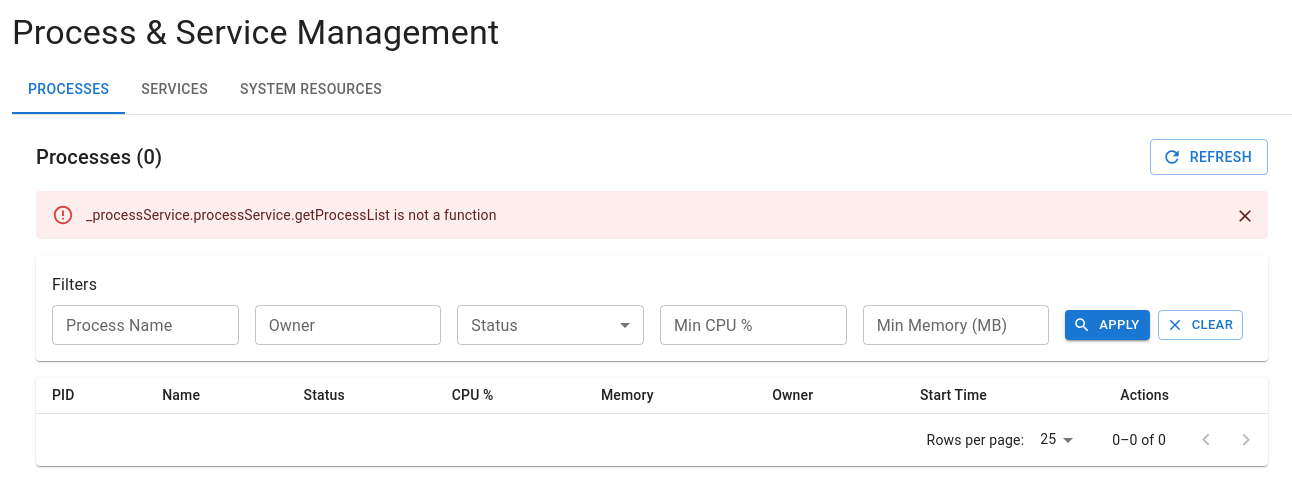
it: ProcessManager › should handle system resources loading error
This screenshot has width=1292, height=485.
Click the tab "System Resources" at (311, 90), box x1=224 y1=66 x2=398 y2=114
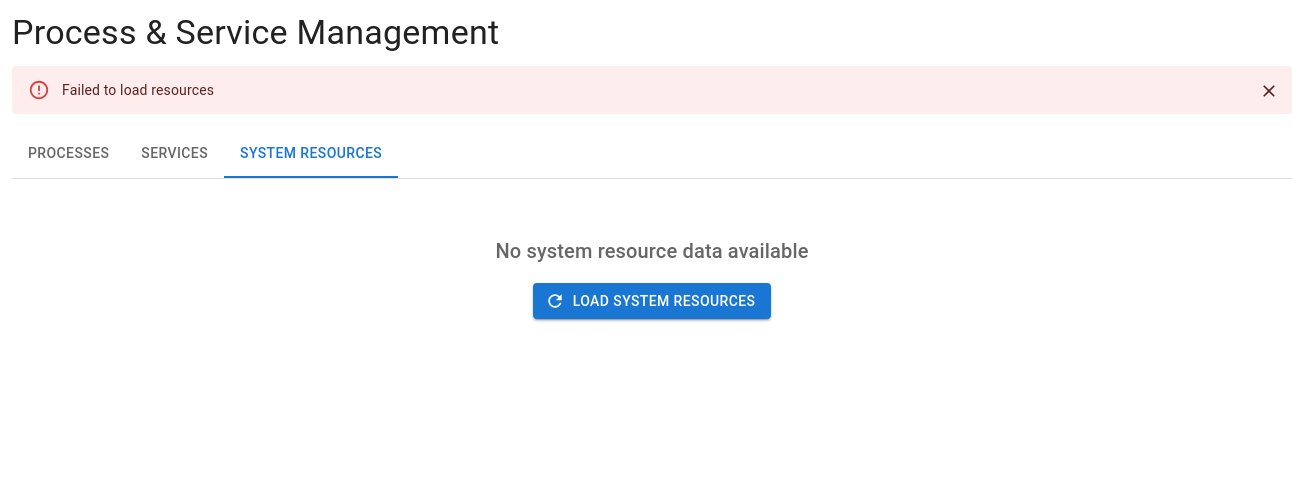
Check: the text "Failed to load resources" is shown, box x1=62 y1=82 x2=214 y2=98
